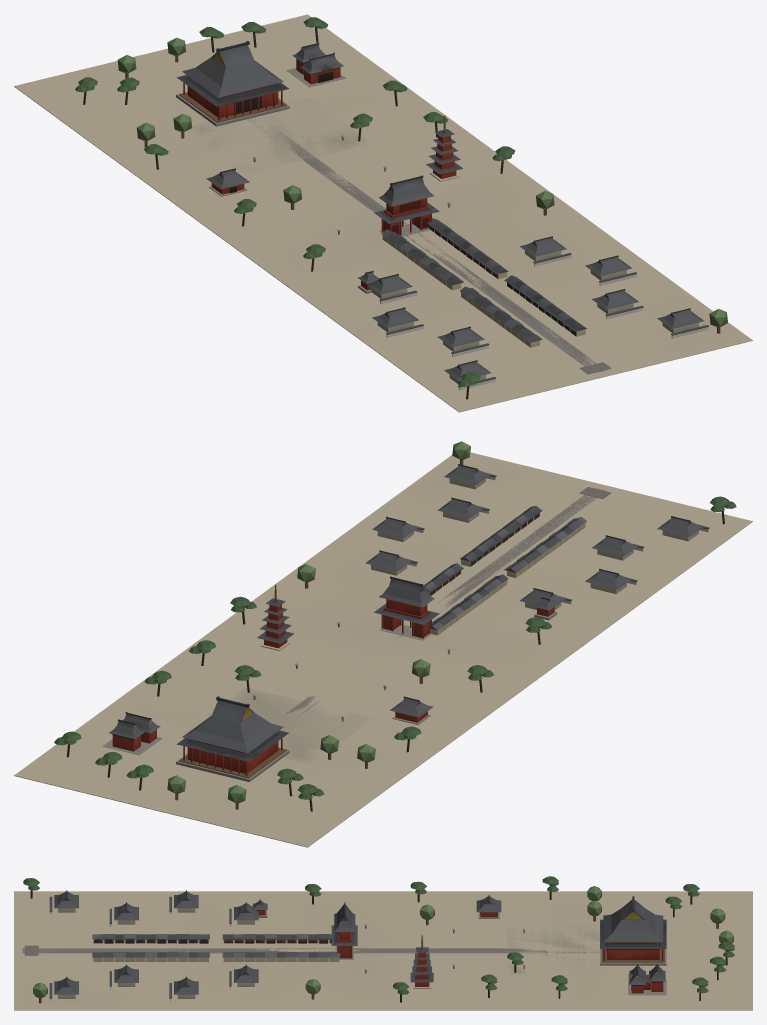
Rendered from sensoji-1872.glb.
3 renders of one model, top to bottom at view 1: azimuth 30°, elevation 25°; view 2: azimuth 150°, elevation 25°; view 3: azimuth 270°, elevation 25°, orthographic. The views are drawn at different scales.
Visible parts, largest first — view 1: p0_precinct, p2_subtemples, p1_gates; view 2: p0_precinct, p2_subtemples, p1_gates; view 3: p0_precinct, p2_subtemples, p1_gates.
Part boxes in pixels (x1,y1,x2,y2): p0_precinct: (14, 14, 752, 412); p2_subtemples: (75, 17, 727, 399); p1_gates: (374, 175, 611, 374); p0_precinct: (14, 452, 752, 847); p2_subtemples: (54, 441, 736, 811); p1_gates: (374, 487, 611, 640); p0_precinct: (14, 891, 752, 1010); p2_subtemples: (23, 876, 734, 1003); p1_gates: (24, 902, 357, 961).
Size of the model in its own units: 160 by 32 by 420.
